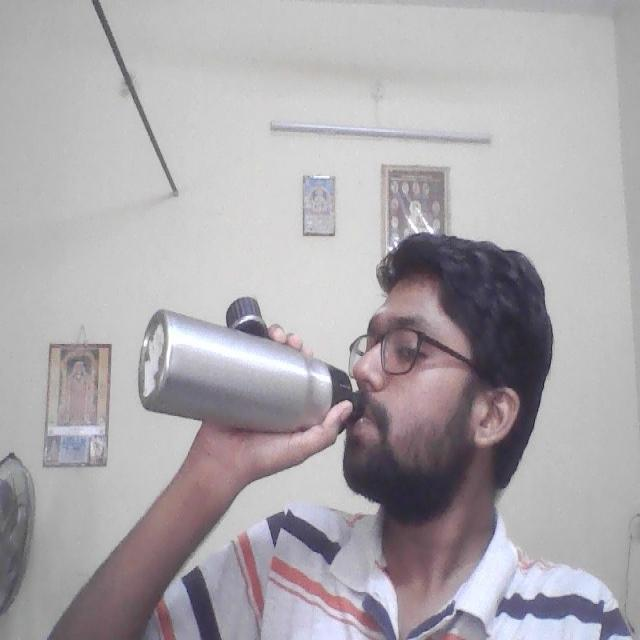Drinking: (140, 283, 362, 443)
